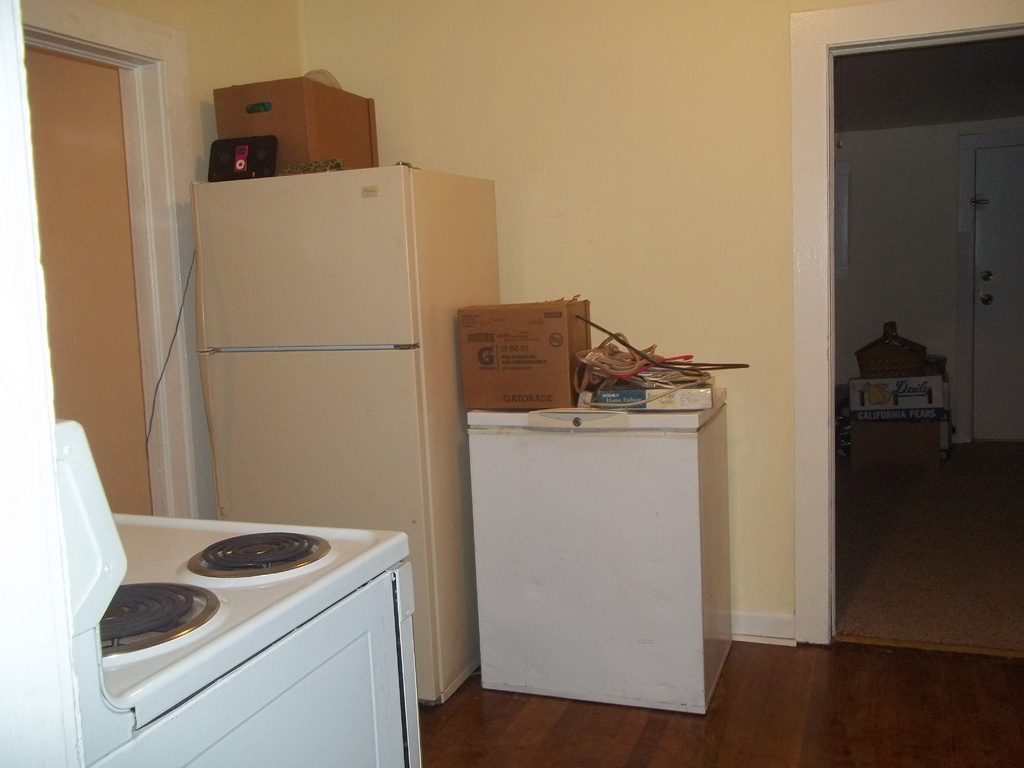door: (974, 154, 1024, 446)
handle: (178, 186, 206, 343), (198, 346, 222, 453), (978, 288, 999, 317)
refrigerator door: (201, 354, 425, 530), (194, 183, 419, 346)
